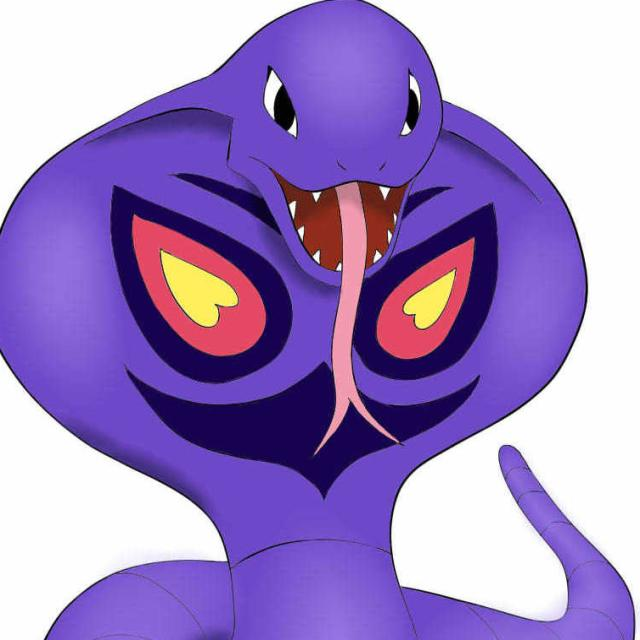Arbok: (0, 19, 589, 587)
